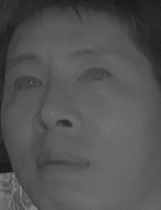eye: (75, 63, 113, 87), (9, 72, 45, 96)
mouth: (34, 145, 92, 185)
